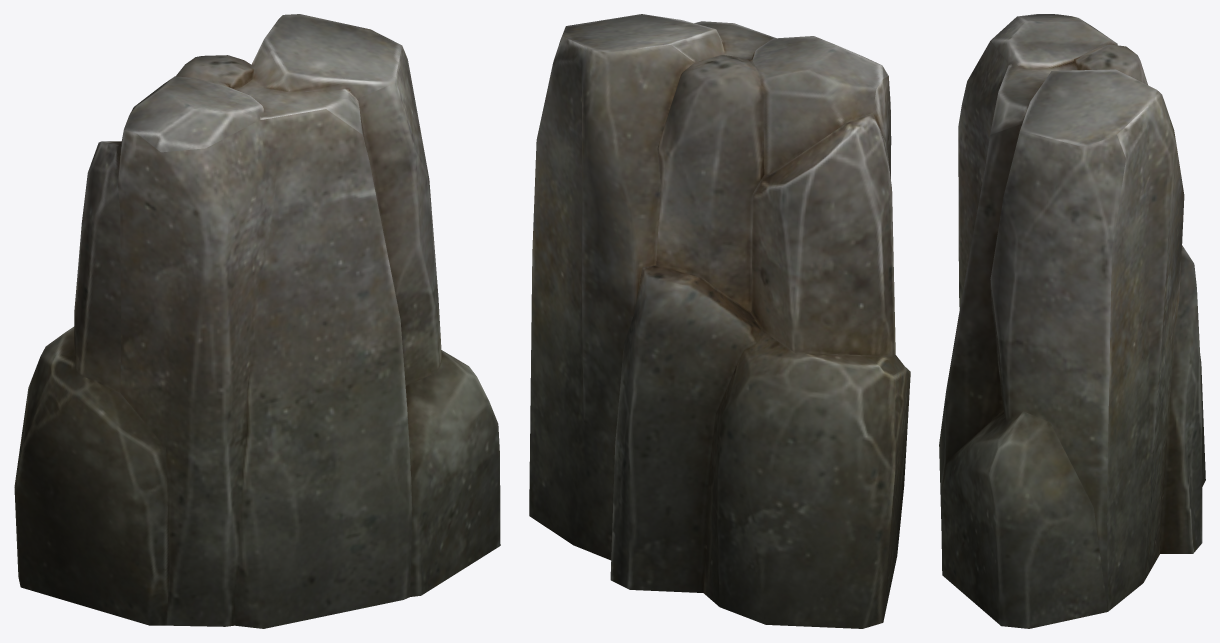
Rendered from rocks6.fbx.
3 views of the same model, side by side, from view 1: azimuth 30°, elevation 25°; view 2: azimuth 150°, elevation 25°; view 3: azimuth 270°, elevation 25° (orthographic). The views are drawn at different scales.
Visible parts, largest first — view 1: rock06; view 2: rock06; view 3: rock06.
Boxes of the visible parts, x1,y1,x2,y2 form: rock06: (14, 14, 500, 628); rock06: (529, 14, 910, 628); rock06: (939, 14, 1205, 628).
Size of the model in its own units: 378 by 440 by 224.
Materials: 1 (1 with a texture image).
